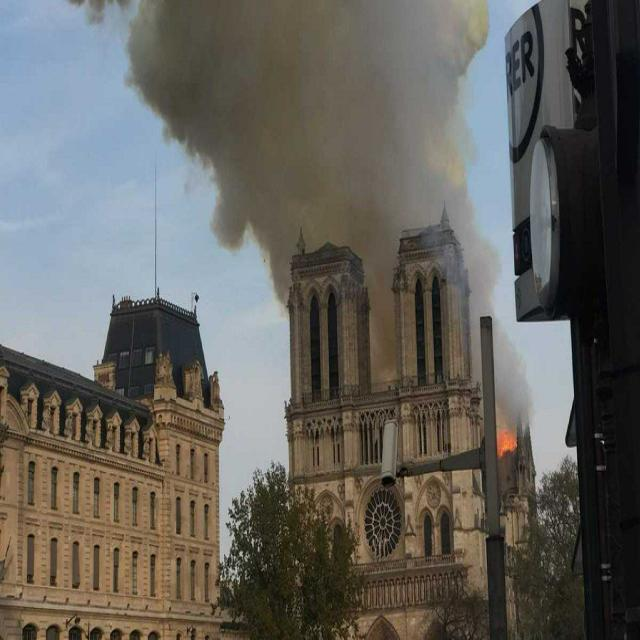Fire: (495, 424, 518, 462)
Smoke: (128, 1, 398, 384), (300, 0, 532, 422), (64, 0, 134, 24)
